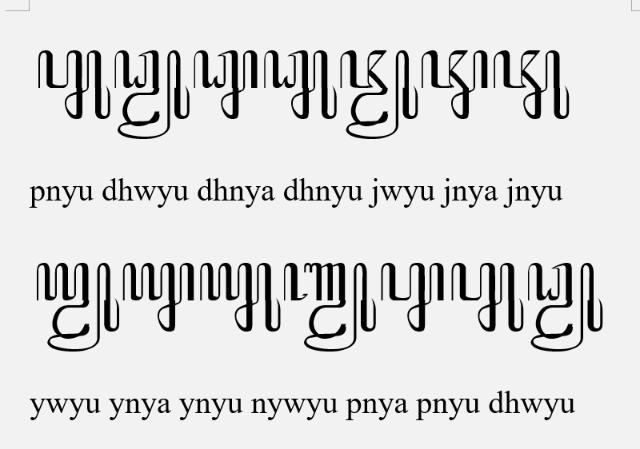dhny: (193, 50, 257, 120)
dhnyu: (262, 50, 338, 120)
dhwyu: (526, 262, 604, 352), (114, 49, 190, 140)
jny: (421, 50, 489, 120)
jnyu: (494, 50, 570, 120)
jwyu: (339, 48, 418, 140)
nywyu: (282, 262, 378, 352)
pnyu: (37, 48, 111, 120), (451, 262, 525, 334)
py: (381, 262, 445, 332)
yny: (122, 262, 194, 334)
ynyu: (199, 263, 281, 333)
ywyu: (36, 262, 120, 352)
